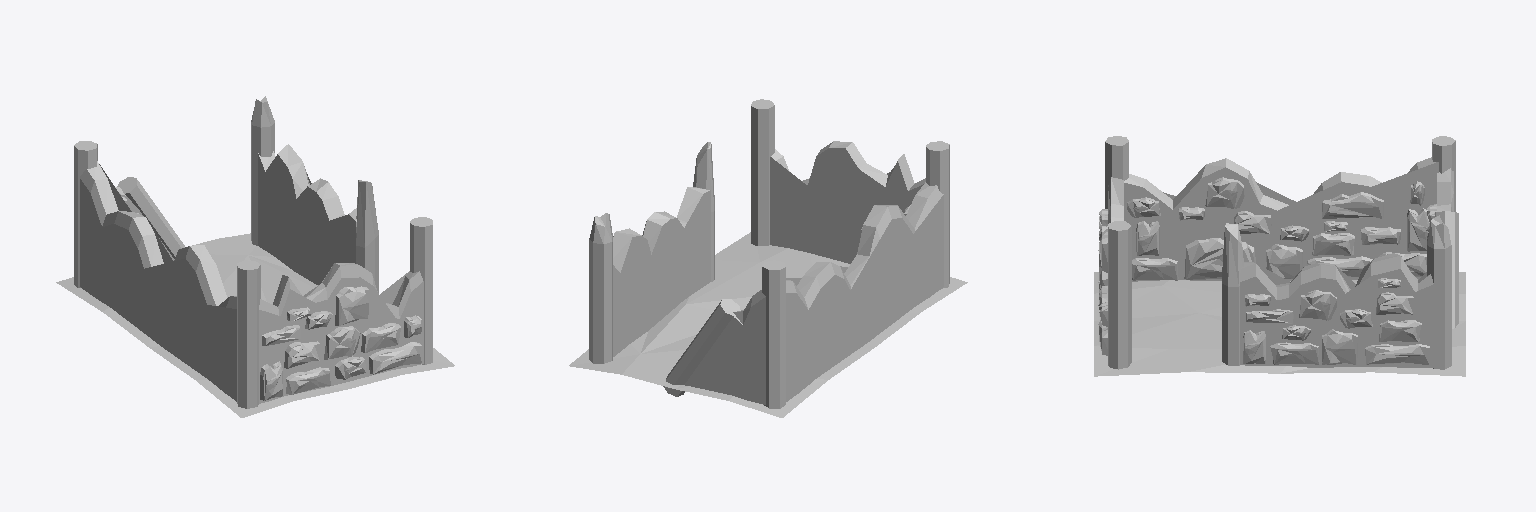
File: HauseSmallRuin.obj
3 renders of one model, left to right at view 1: azimuth 30°, elevation 25°; view 2: azimuth 150°, elevation 25°; view 3: azimuth 270°, elevation 25°, orthographic.
Visible parts, largest first — view 1: Main; view 2: Main; view 3: Main.
Part boxes in pixels (x1,y1,x2,y2): Main: (56, 96, 454, 417); Main: (569, 99, 967, 417); Main: (1094, 136, 1465, 376).
Size of the model in its own units: 4 by 2.84 by 6.